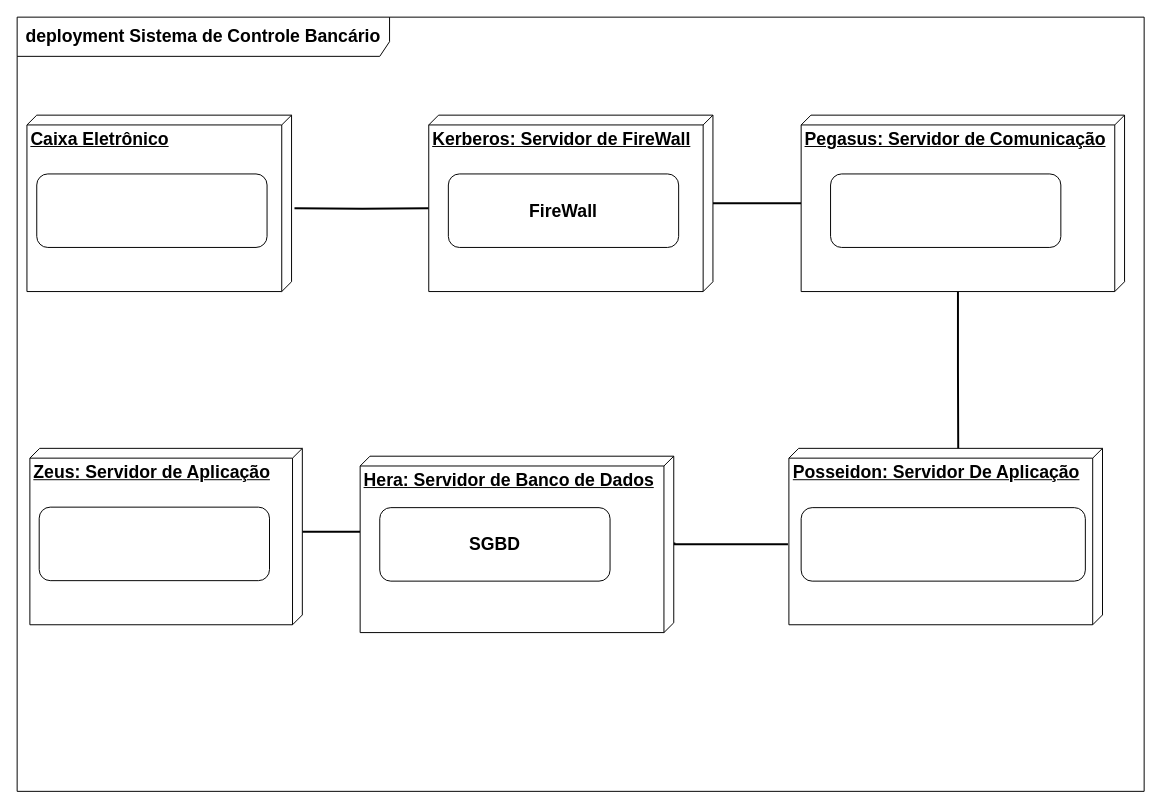
Image size: 1161x809. Some labels were removed from this diagram. The shapes that lost their labels are listed below. From the top down, each one's centre as x and y in pixels, then its label:
At pixel 151 210: "InterfaceCaixaEletrônico".
At pixel 945 210: "ServidorDeComunicação".
At pixel 154 543: "GerenciadorDeAplicação".
At pixel 942 544: "GerenciadorDeAutoatendimento".
